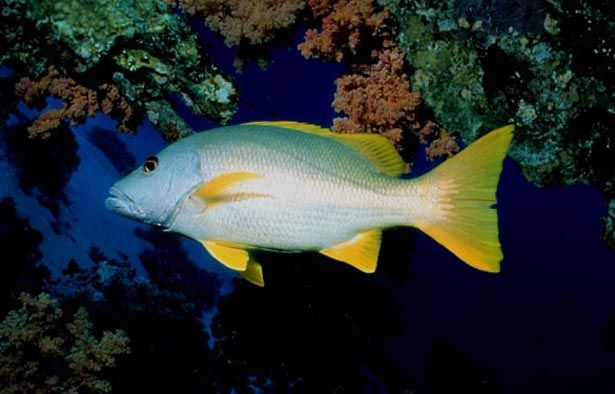fish: (104, 120, 517, 287)
